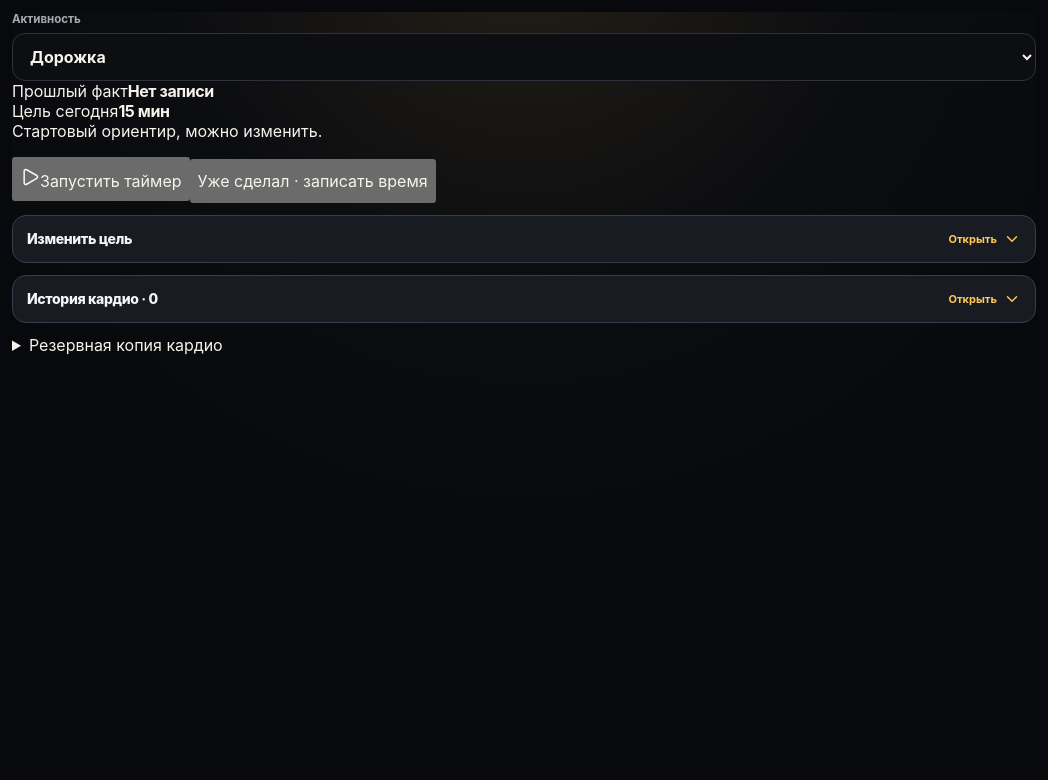
visible treadmill facts › sends comma-entered values as numbers through the actual sync path and keeps the acknowledged facts
The image size is (1048, 780).
Step 1. Click the button "Уже сделал · записать время" → (313, 181), box [190,159,436,203]
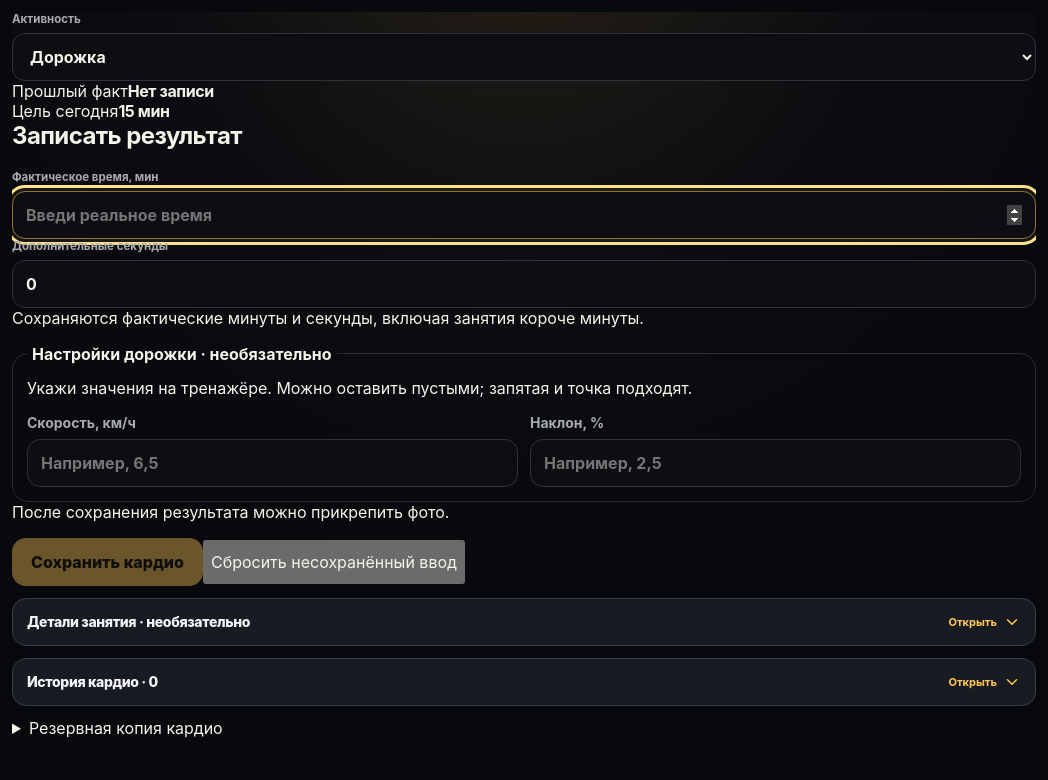
Step 2. Type "20" into the number field labelled "Фактическое время, мин" → (524, 215), box [12,191,1036,239]
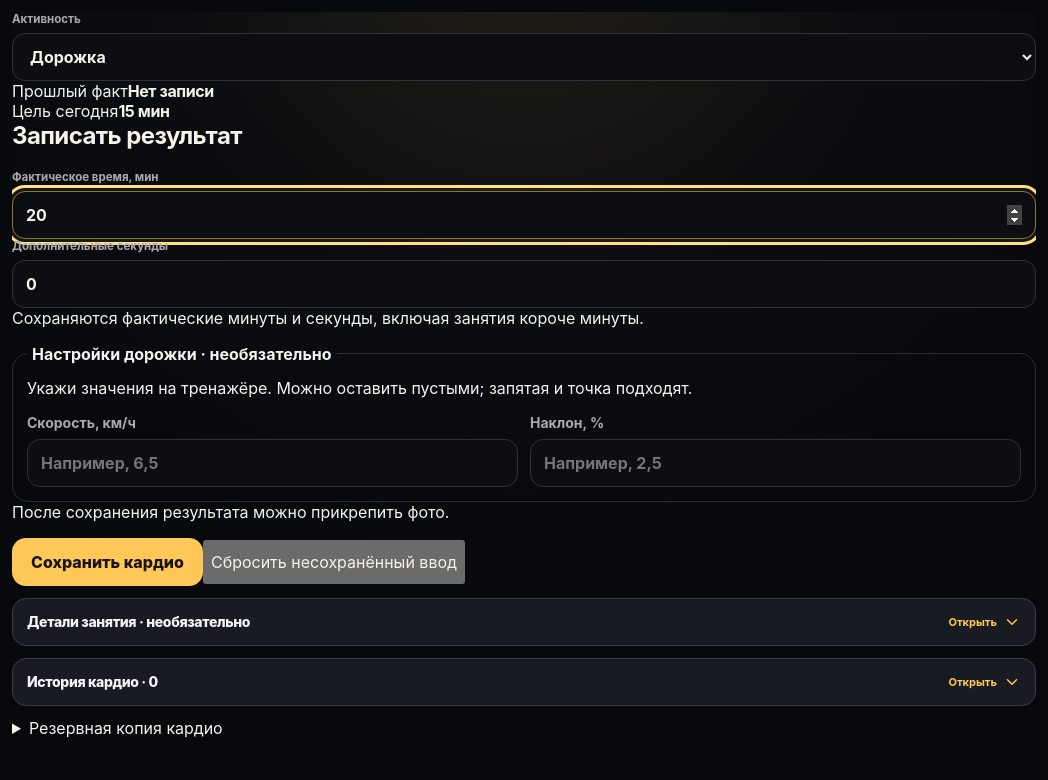
Step 3. Replace the text in the number field named "Фактическое время, секунды" with "17" → (524, 284), box [12,260,1036,308]
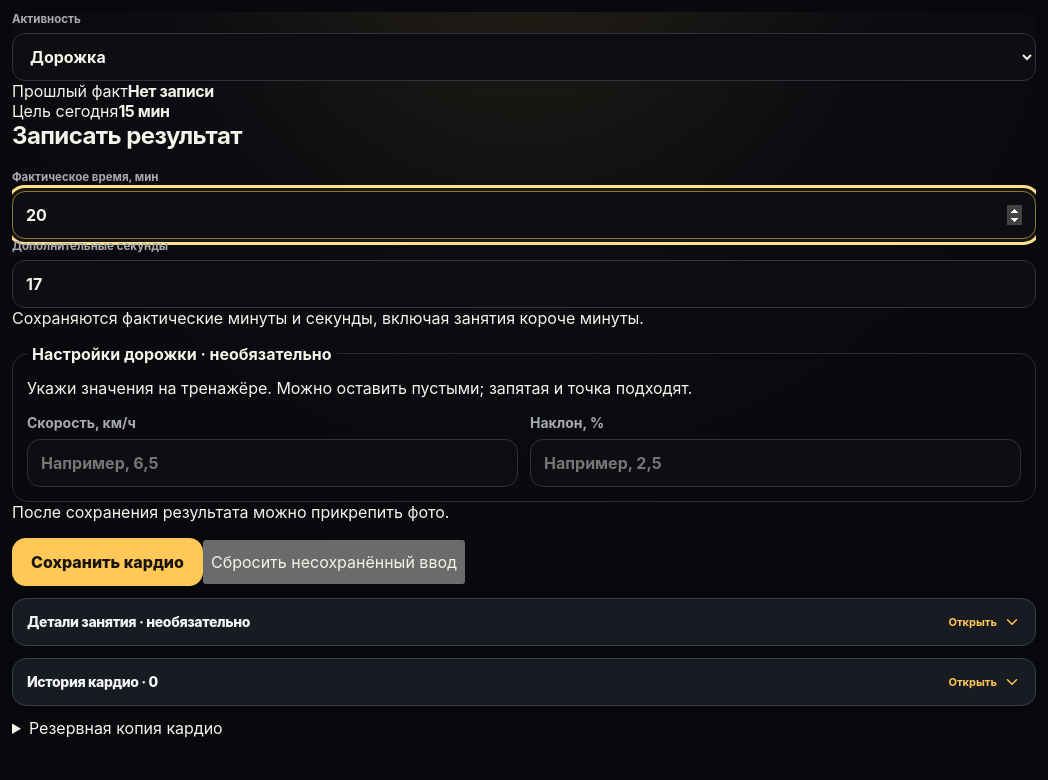
Step 4. Type "6,75" into the field labelled "Скорость, км/ч" → (272, 463), box [27,439,518,487]
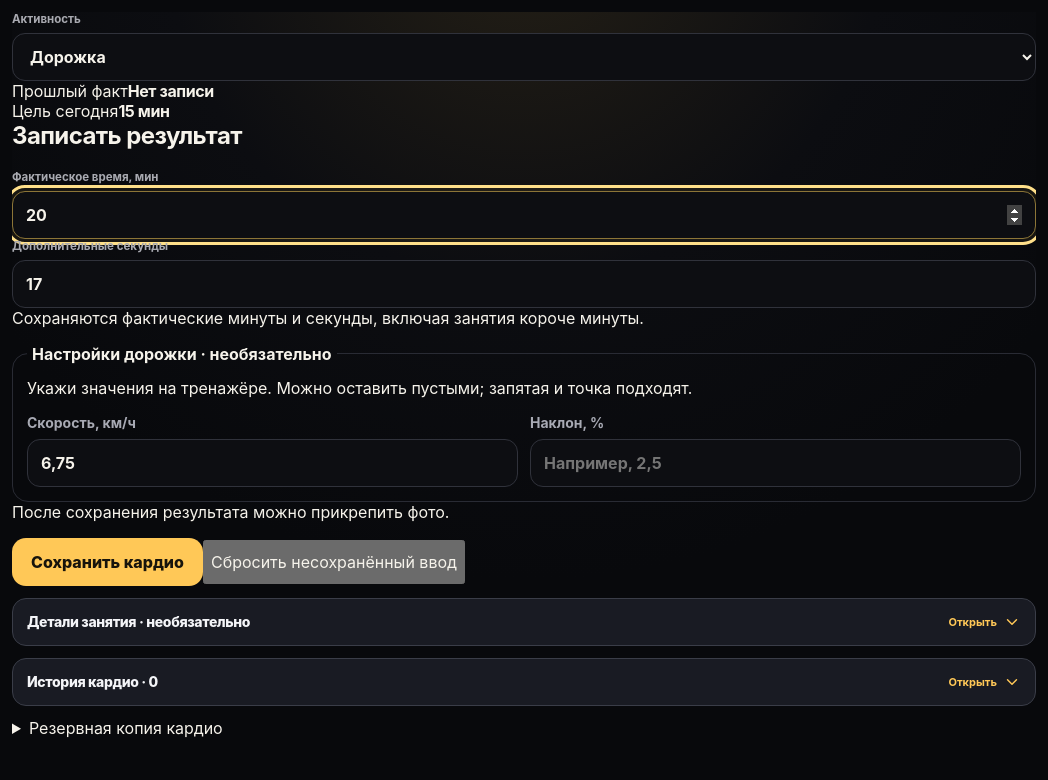
Step 5. Type "-1,25" into the field labelled "Наклон, %" → (776, 463), box [530,439,1021,487]
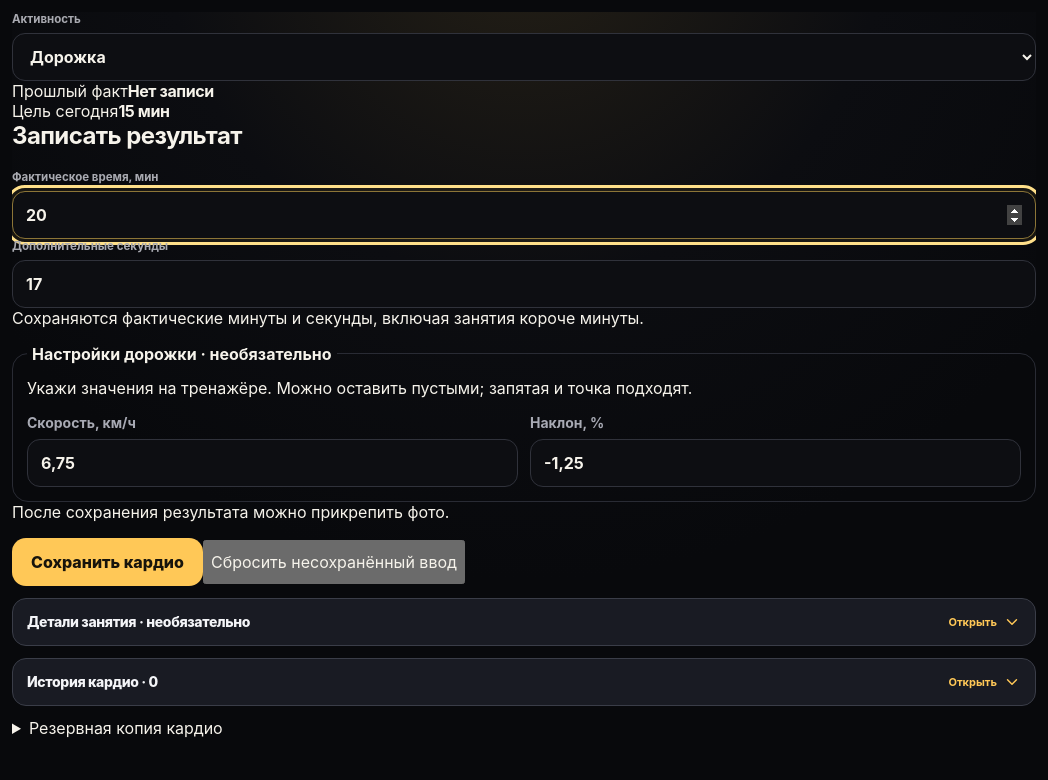
Step 6. Click the button "Сохранить кардио" → (107, 562), box [12,538,203,586]
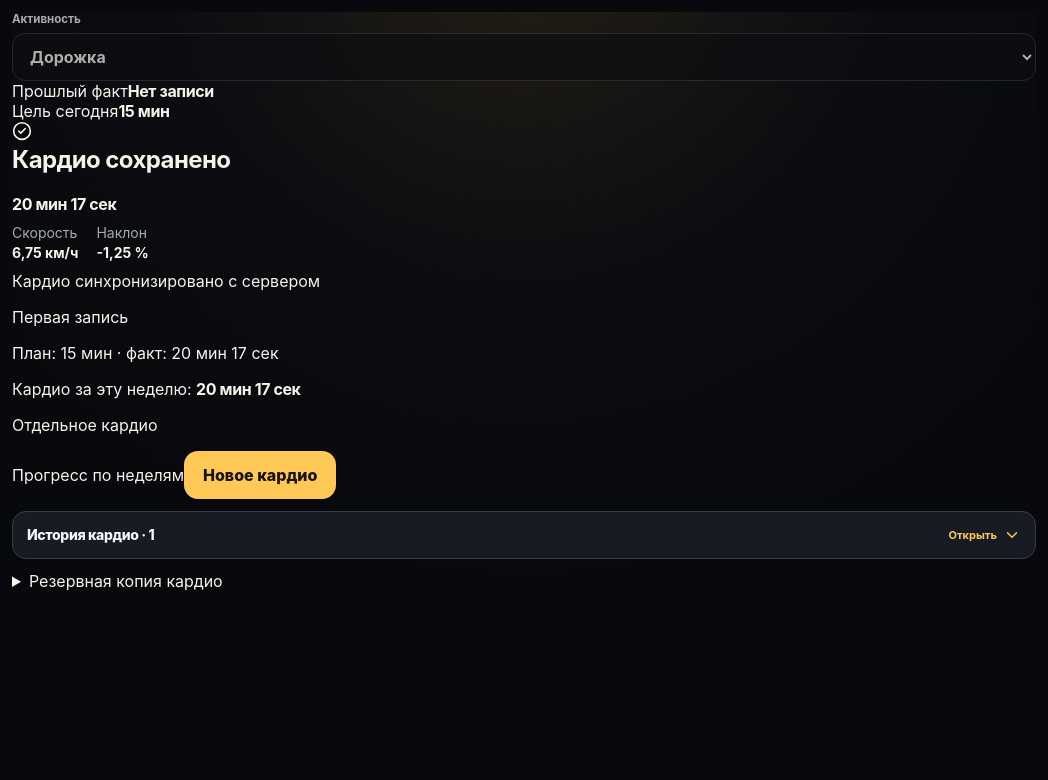
expect the text "Кардио синхронизировано с сервером" is shown: met, box [12,271,320,291]
